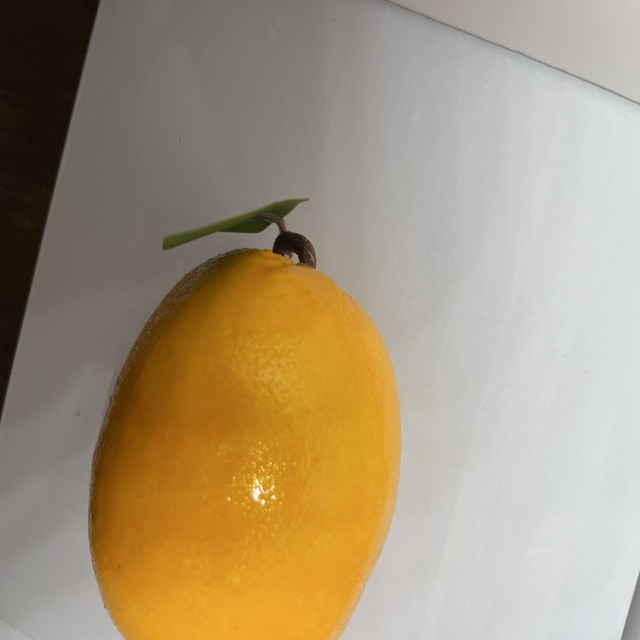Cam vang: (83, 229, 413, 640)
